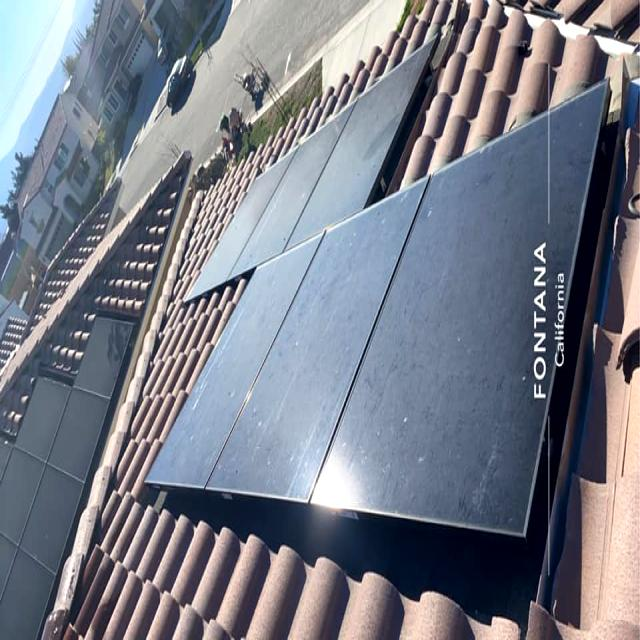dust: (432, 183, 520, 528), (326, 278, 416, 493), (231, 314, 310, 486), (248, 156, 348, 213), (333, 84, 391, 172)
